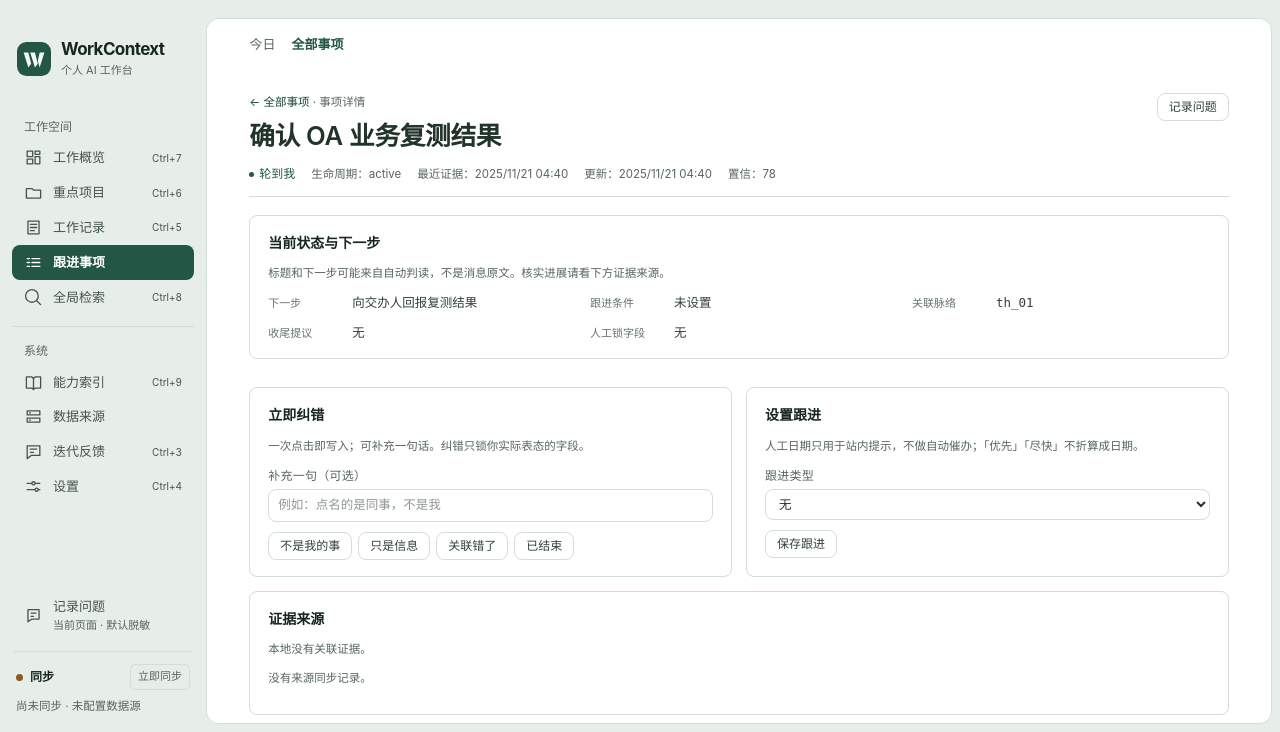
Scenario: 事项详情 / 纠错 / 收尾 / 跟进 › 收尾被后端拒绝时显示证据不足，不显示成功
Click the button "已结束" at (544, 546), box [514,532,574,560]
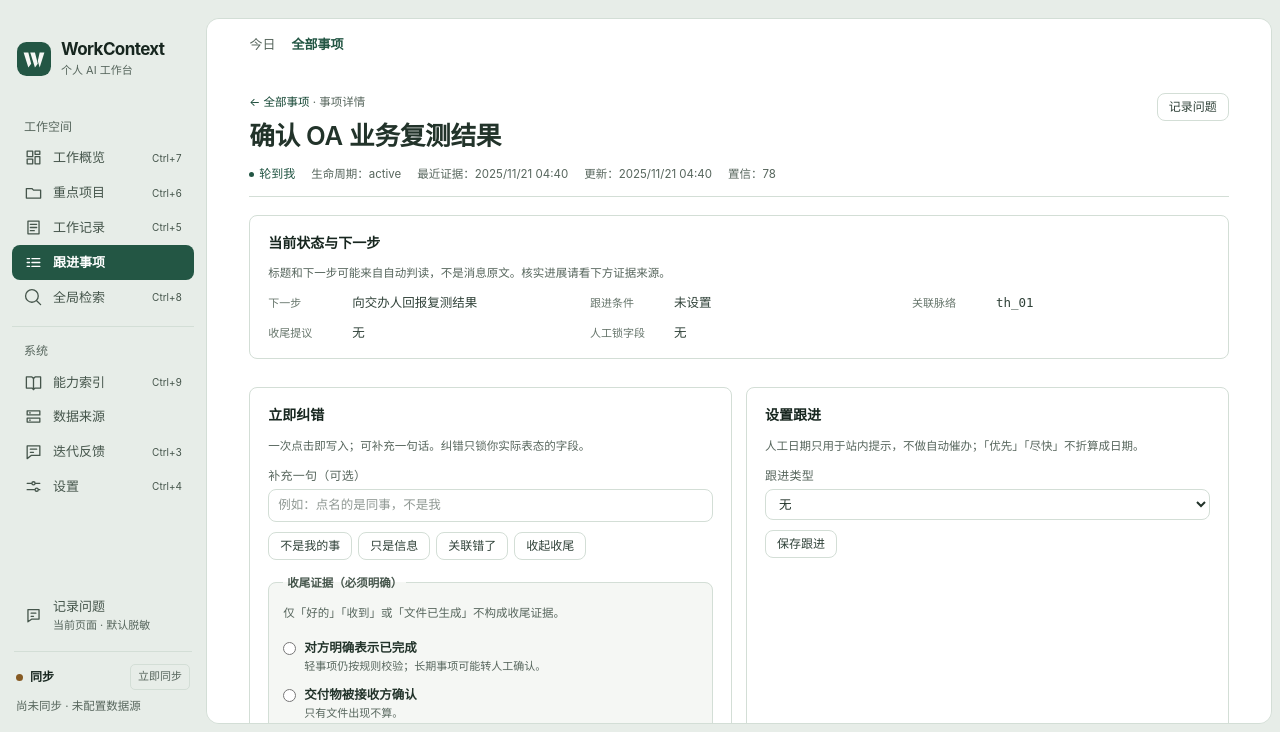
Click the radio button labelled "对方明确表示已完成" at (290, 648), box [283,642,296,655]
(page scrolled)
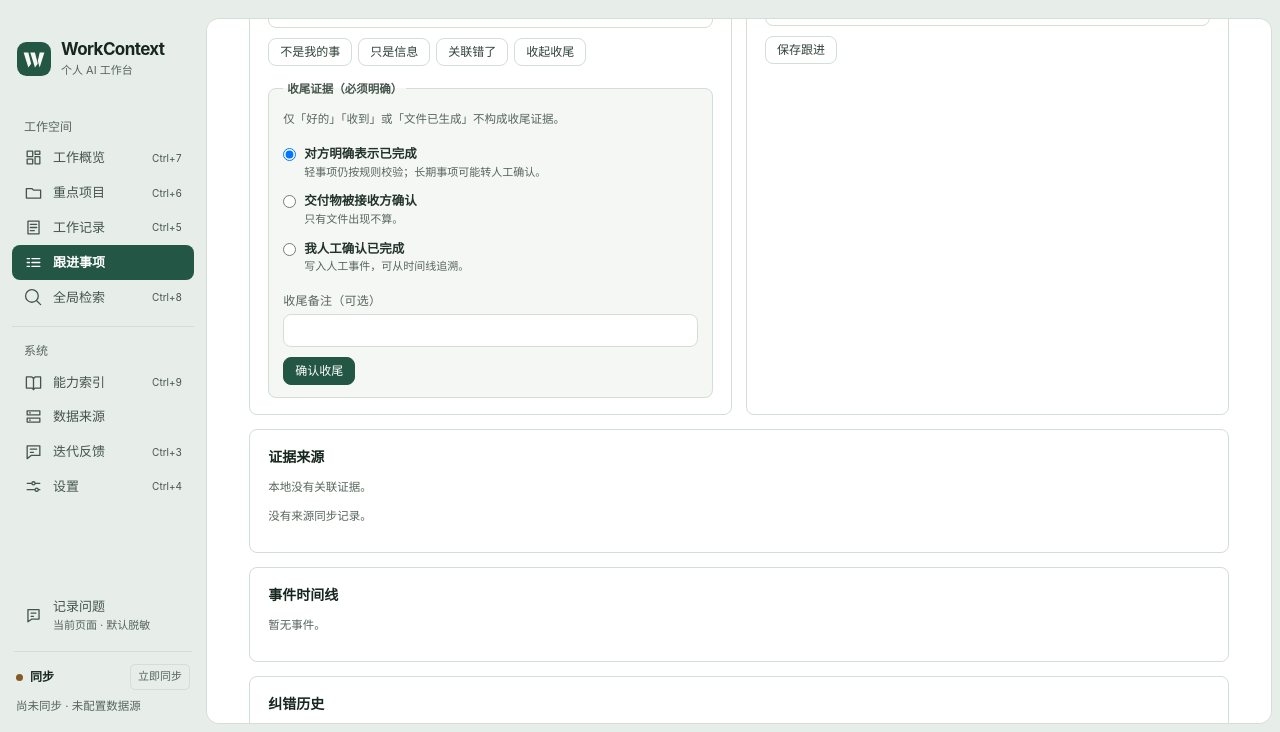
Click the button "确认收尾" at (319, 371), box [283,357,355,385]
(page scrolled)
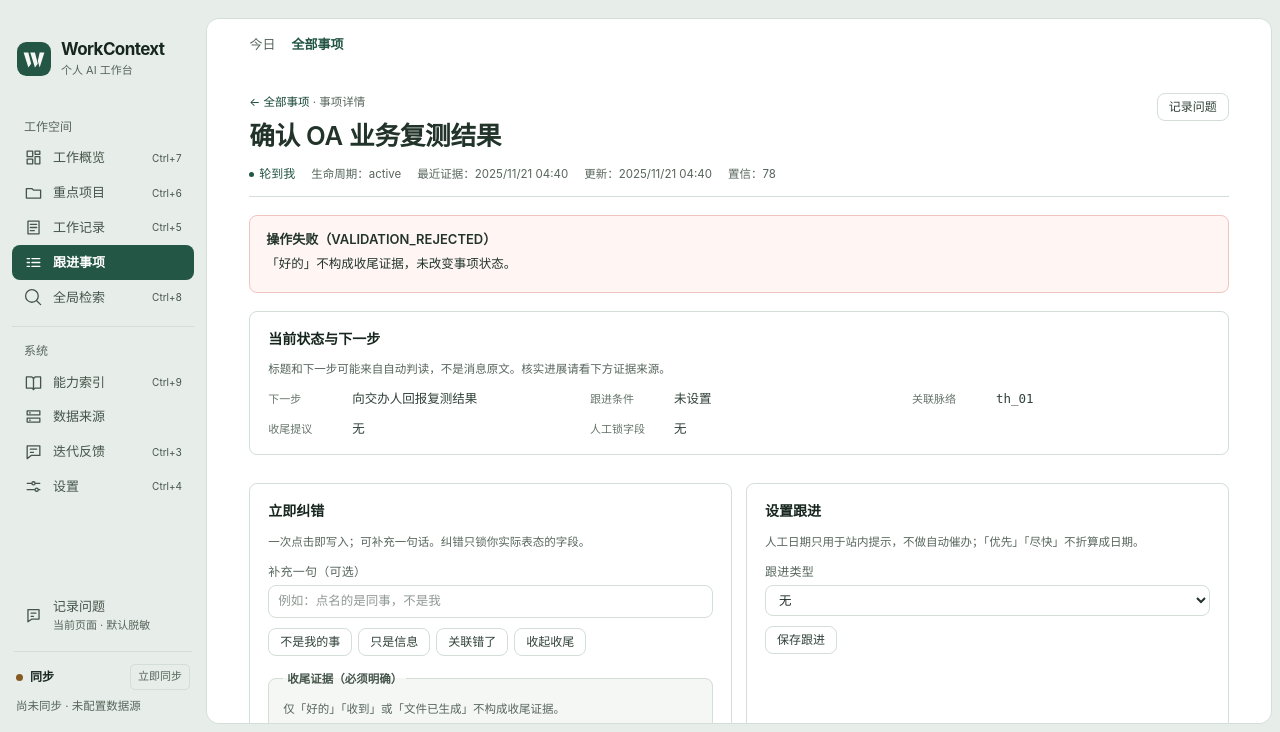
Result: the text "操作失败（VALIDATION_REJECTED）" is shown at [266,231,496,247]
